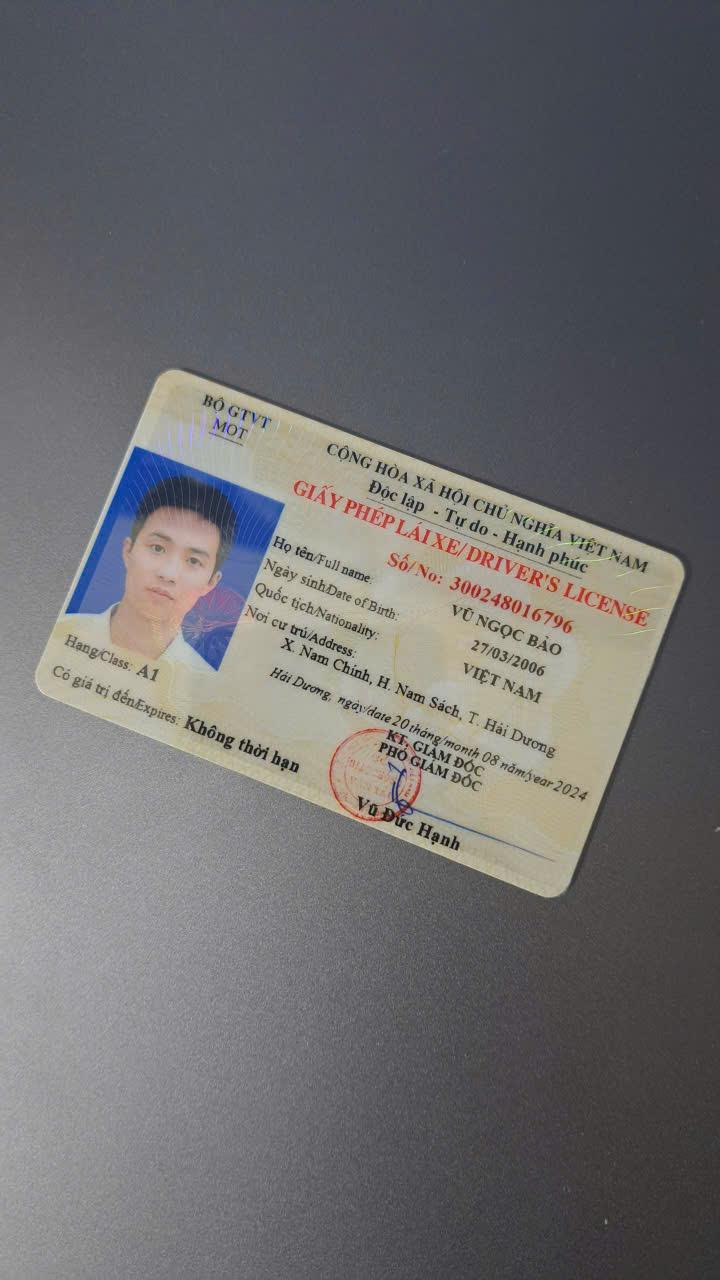gplx: (28, 361, 700, 912)
